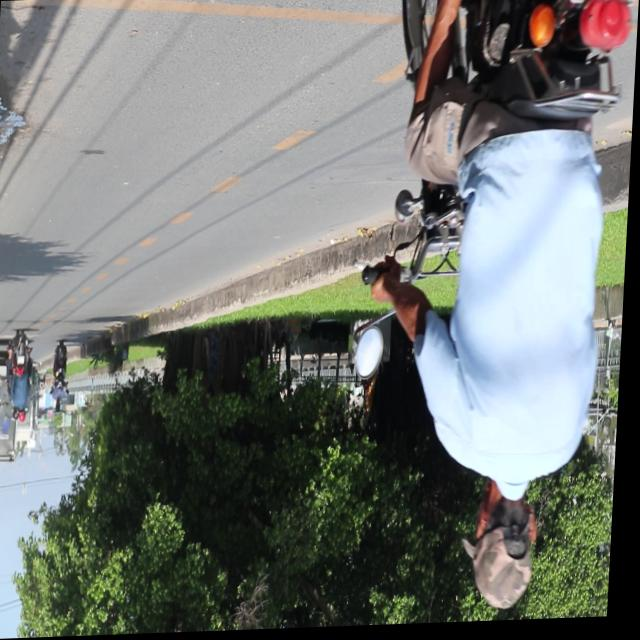licenseplate: (351, 0, 639, 615)
motorcyclist: (472, 482, 546, 612)
